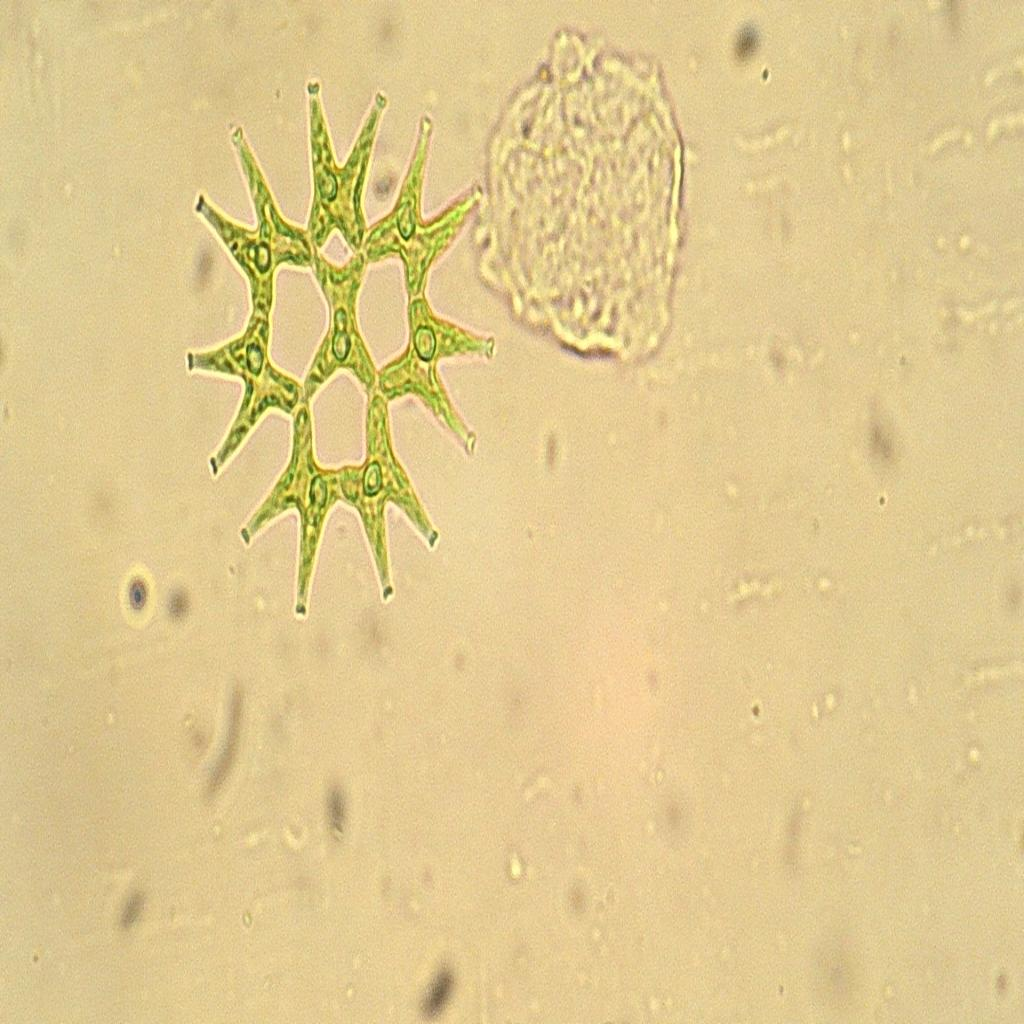Pediastrum_CTH: (166, 66, 518, 630)
